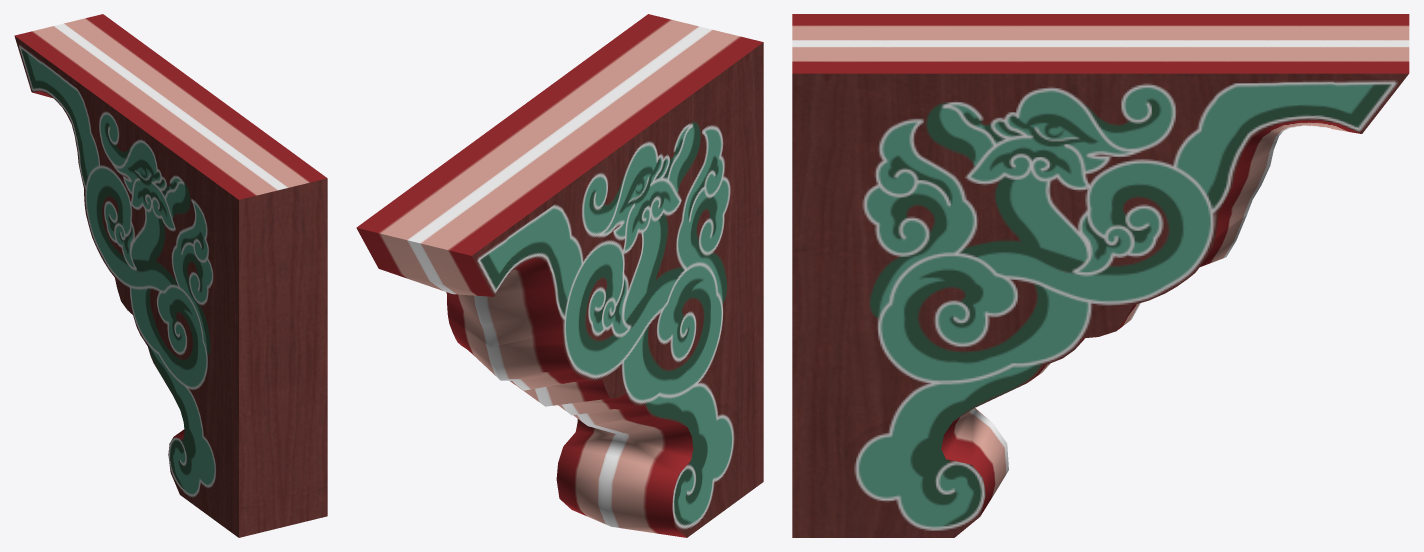
The model's file is SM_Boaji06J.fbx.
3 renders of one model, left to right at view 1: azimuth 30°, elevation 25°; view 2: azimuth 150°, elevation 25°; view 3: azimuth 270°, elevation 25°, orthographic. The views are drawn at different scales.
Visible parts, largest first — view 1: SM_Boaji06J; view 2: SM_Boaji06J; view 3: SM_Boaji06J.
Boxes of the visible parts, left/top/right/bottom form: SM_Boaji06J: left=14, top=14, right=327, bottom=537; SM_Boaji06J: left=356, top=14, right=763, bottom=537; SM_Boaji06J: left=792, top=14, right=1409, bottom=537.
Size of the model in its own units: 10.06 by 44.09 by 36.62.
1 material, 1 textured.
